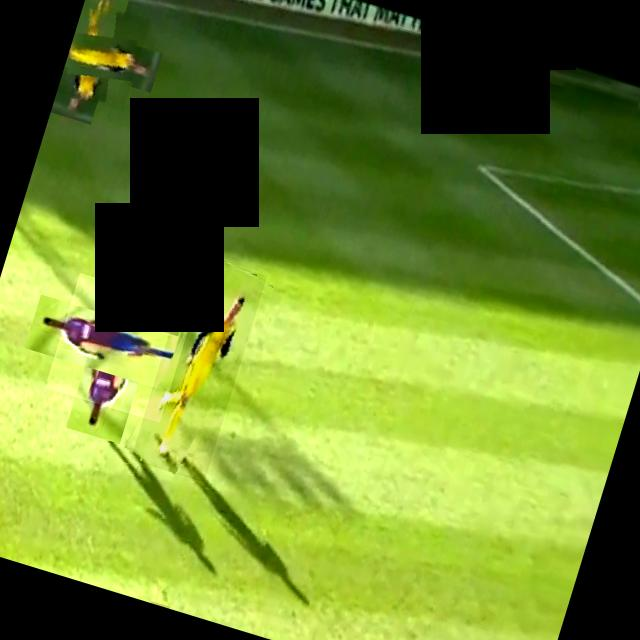ball: (149, 600, 169, 608)
soccer-player: (129, 252, 266, 480), (44, 271, 194, 421), (56, 0, 150, 110)
